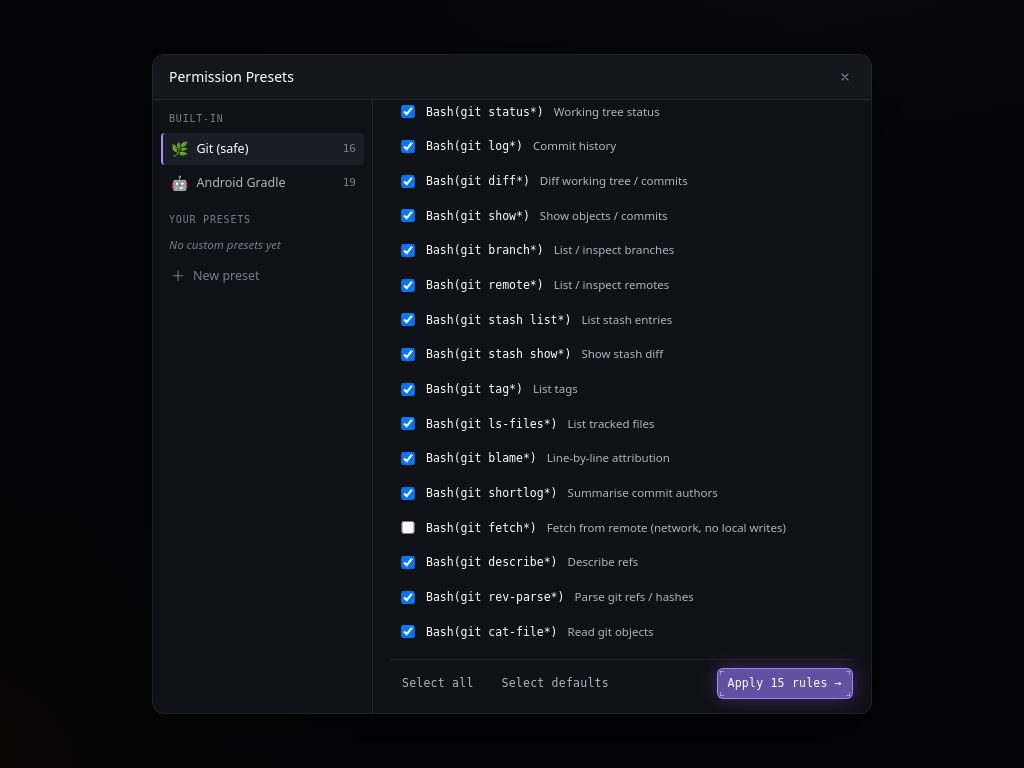
Test: PresetsSheet — toggle + apply › Select all checks every selectable rule
(page scrolled)
Step 1. Click the button "Select all" → click(438, 684), box [391, 668, 484, 699]
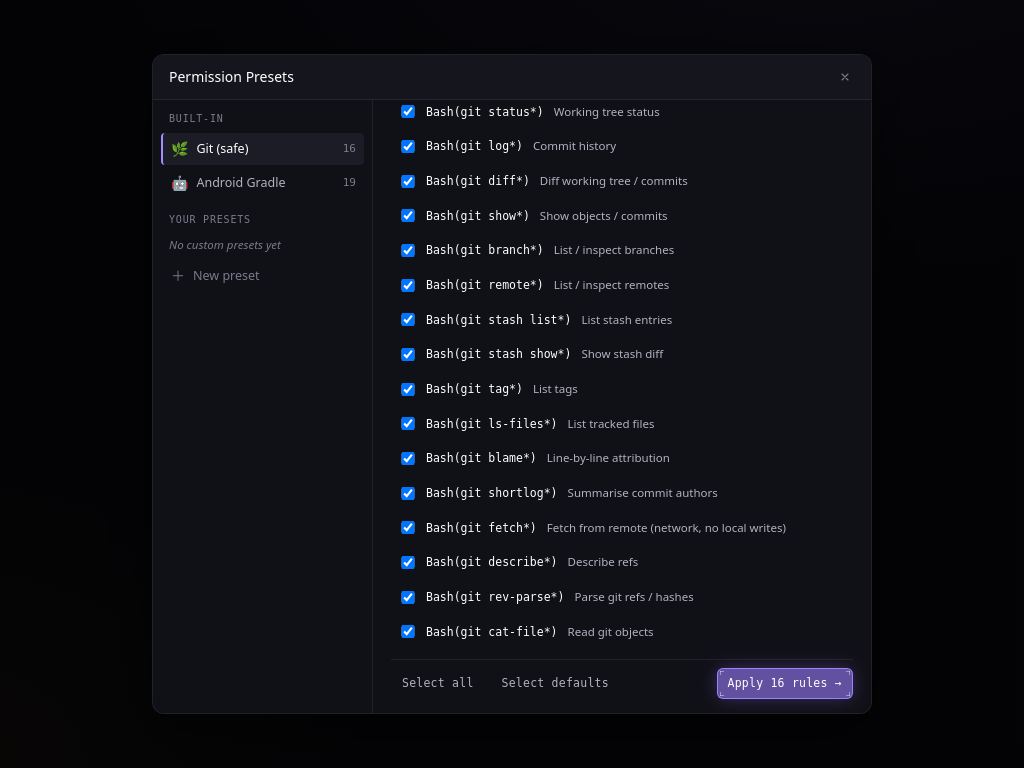
Expected: the checkbox named "Toggle Bash(git status*)" is checked, [400, 105, 416, 118]
Expected: the checkbox named "Toggle Bash(git fetch*)" is checked, [400, 521, 416, 534]
